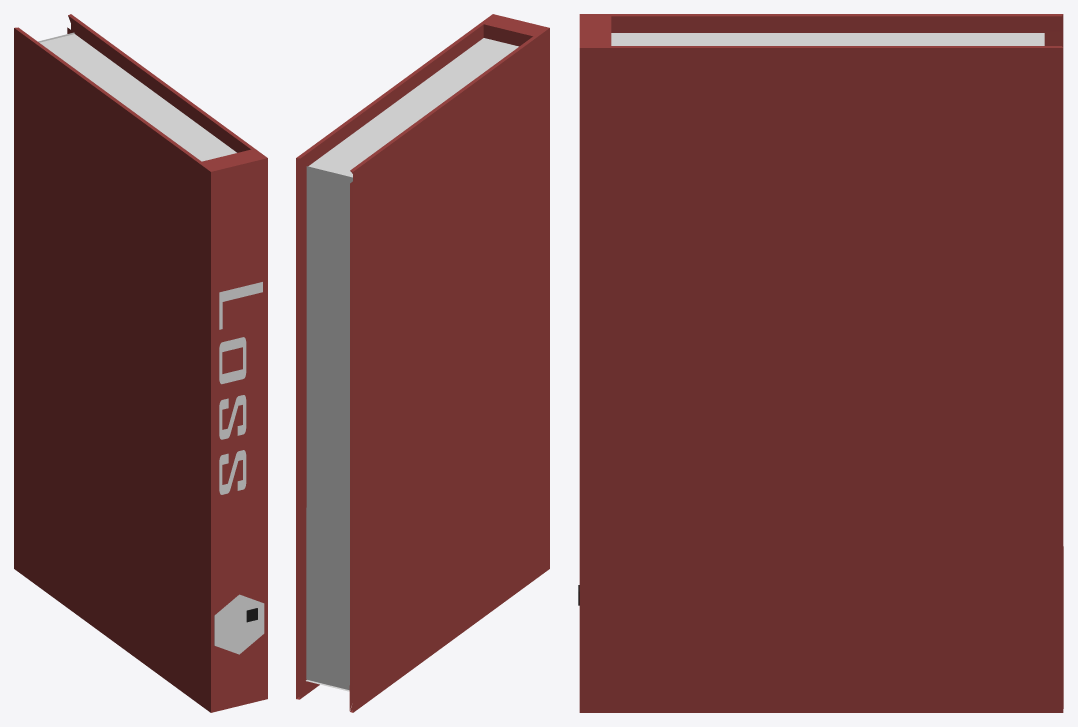
Rendered from Book_Loss.fbx.
3 views of the same model, side by side, from view 1: azimuth 30°, elevation 25°; view 2: azimuth 150°, elevation 25°; view 3: azimuth 270°, elevation 25° (orthographic). The views are drawn at different scales.
Visible parts, largest first — view 1: Book, Text, Cylinder; view 2: Book; view 3: Book.
Part boxes in pixels (x1=…): Book: x1=14, y1=14, x2=267, y2=712; Text: x1=219, y1=282, x2=262, y2=494; Cylinder: x1=214, y1=594, x2=264, y2=654; Book: x1=296, y1=14, x2=549, y2=712; Book: x1=579, y1=14, x2=1063, y2=712.
Bounding box in the file's own units: 6.67 × 60.59 × 40.09.
